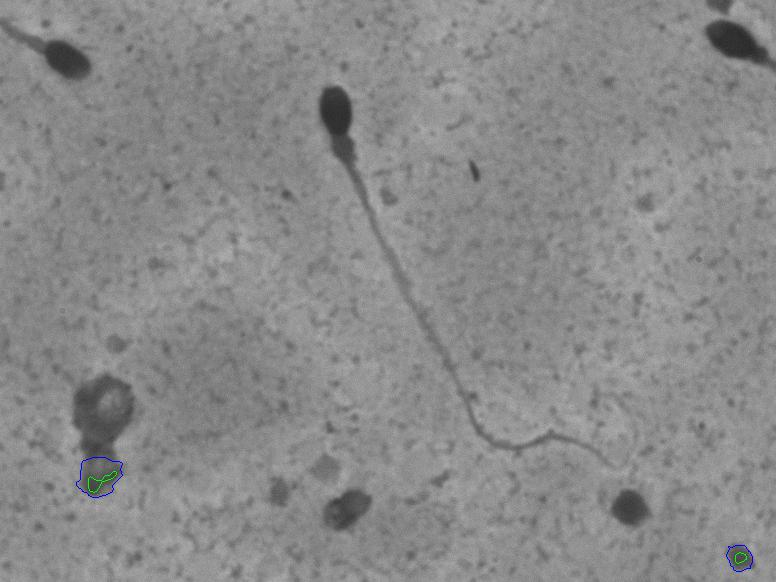Abnormal: (304, 65, 646, 480), (19, 10, 111, 111)
